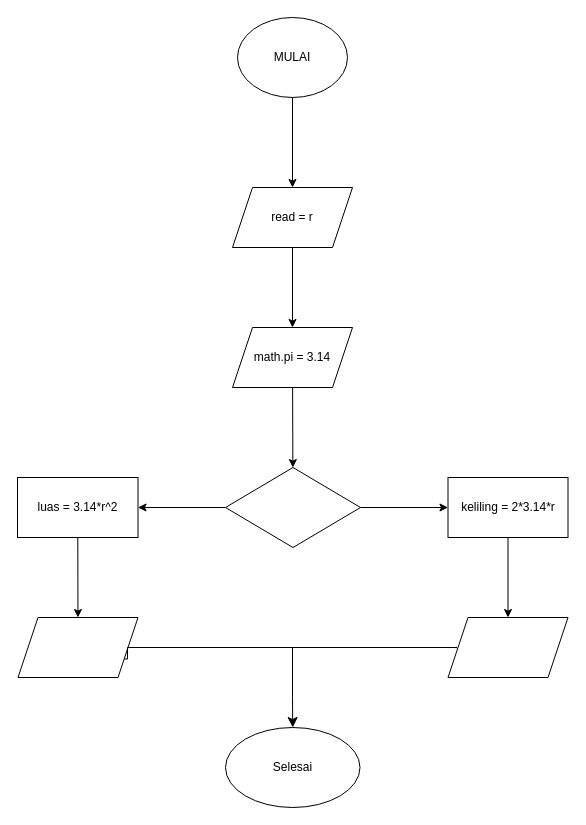
The diagram is 586 pixels wide and 825 high, and some of its shapes have lost their labels. The box of each missing label's shape, as (x1, y1, x2, y2) in pixels:
tentukan Luas/Keliling: (224, 466, 360, 548)
write = keliling lingkaran: (447, 616, 568, 678)
write = luas lingkaran: (17, 616, 138, 678)
